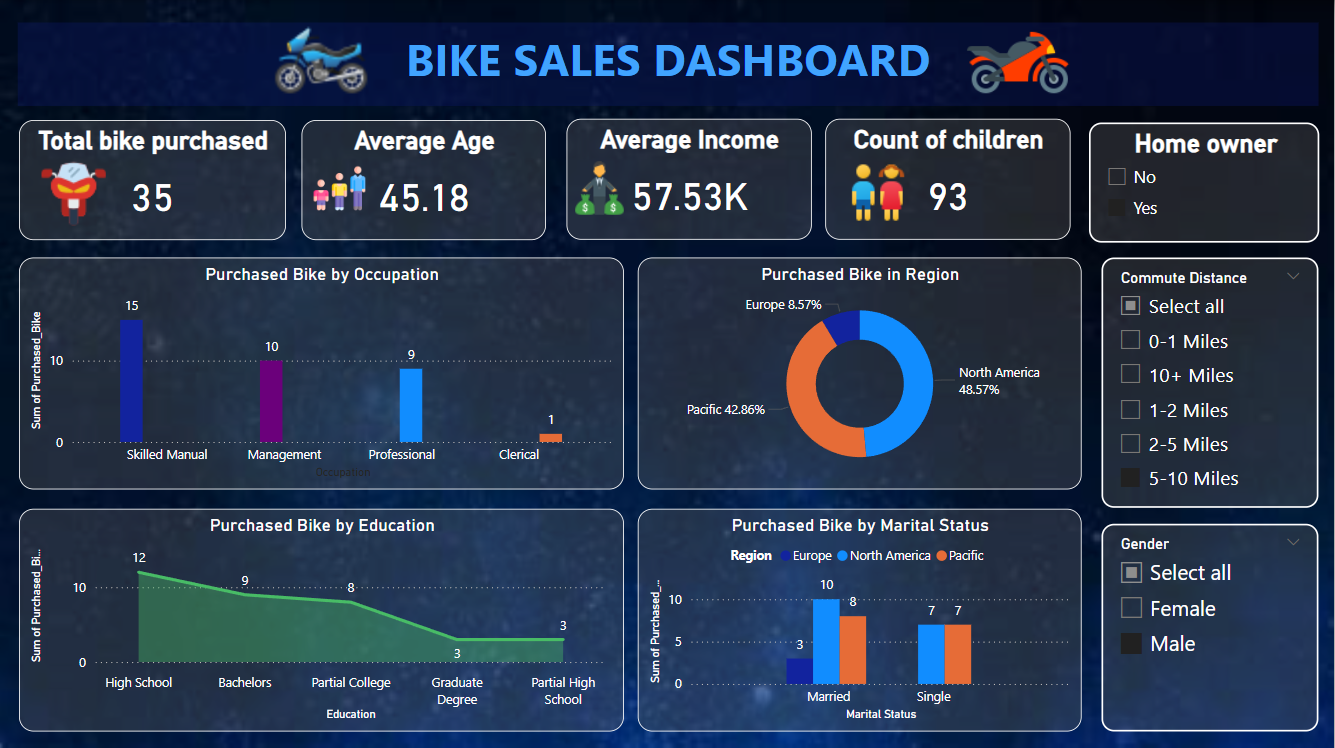

This screenshot's page, from the dashboard's own definition file:
{"tool":"powerbi","page":{"name":"Page 1","canvas":[1280,720],"ordinal":0},"visuals":[{"type":"donutChart","title":"Purchased Bike in Region","fields":{"Category":["Bike_sales_data.Region"],"Y":["Sum(Bike_sales_data.Purchased_Bike)"]},"box":[612.2,247.4,425.4,222.5],"z":0},{"type":"slicer","title":"Home owner","fields":{"Values":["Bike_sales_data.Home Owner"]},"box":[1044.7,117.5,221.2,115.4],"z":1000,"group":"g2"},{"type":"areaChart","title":"Purchased Bike by Education","fields":{"Category":["Bike_sales_data.Education"],"Y":["Sum(Bike_sales_data.Purchased_Bike)"]},"box":[19.6,487.7,580.2,213.6],"z":1000},{"type":"slicer","fields":{"Values":["Bike_sales_data.Gender"]},"box":[1057.2,501.9,208.2,199.3],"z":2000},{"type":"clusteredColumnChart","title":"Purchased Bike by Occupation","fields":{"Category":["Bike_sales_data.Occupation"],"Series":["Bike_sales_data.Occupation"],"Y":["Sum(Bike_sales_data.Purchased_Bike)"]},"box":[19.6,247.4,580.2,222.5],"z":3000},{"type":"clusteredColumnChart","title":"Purchased Bike by Marital Status","fields":{"Y":["Sum(Bike_sales_data.Purchased_Bike)"],"Category":["Bike_sales_data.Marital Status"],"Series":["Bike_sales_data.Region"]},"box":[612.2,487.7,425.4,213.6],"z":4000},{"type":"slicer","fields":{"Values":["Bike_sales_data.Commute Distance"]},"box":[1057.2,247.4,208.2,240.3],"z":5000},{"type":"textbox","box":[18.5,21.3,1247.3,79.6],"z":6000},{"type":"card","title":"Total bike purchased","fields":{"Values":["Sum(Bike_sales_data.Purchased_Bike)"]},"box":[19.4,114.6,255.8,115.4],"z":6000,"group":"g4"},{"type":"card","title":"Average Income","fields":{"Values":["Avg(Bike_sales_data.Income)"]},"box":[543.5,113.9,234.9,115.7],"z":7000,"group":"g5"},{"type":"group","id":"g1","title":"Group 2","box":[290.6,114.9,234.6,115.4],"z":8000},{"type":"card","title":"Average Age","fields":{"Values":["Avg(Bike_sales_data.Age)"]},"box":[290.6,114.9,234.6,115.4],"z":8000,"group":"g1"},{"type":"card","title":"Count of  children","fields":{"Values":["CountNonNull(Bike_sales_data.Children)"]},"box":[792.9,113.9,234.9,115.7],"z":9000,"group":"g3"},{"type":"group","id":"g2","title":"Group 3","box":[1044.7,117.5,220.7,113.9],"z":9000},{"type":"group","id":"g3","title":"Group 5","box":[787.6,113.9,240.3,115.7],"z":11000},{"type":"image","box":[918.4,1.8,119.2,117.5],"z":11001},{"type":"image","box":[35.6,147.7,71.2,74.8],"z":11002,"group":"g4"},{"type":"group","id":"g4","title":"Group 1","box":[19.4,114.6,255.8,115.4],"z":11003},{"type":"image","box":[296.3,150.6,61.5,59.6],"z":13000,"group":"g1"},{"type":"image","box":[530.4,147.7,89,65.9],"z":14004,"group":"g5"},{"type":"group","id":"g5","title":"Group 4","box":[530.4,113.9,248,115.7],"z":14005},{"type":"image","box":[787.6,147.5,110.3,74.8],"z":14005,"group":"g3"},{"type":"image","box":[242.1,0,133.5,101.4],"z":14006}]}

Visuals, with their boxes in screenshot pixels (x1, y1, x2, y2), scaled from the page's 1280x720 canvas onto the 1335x748 screenshot:
"Purchased Bike in Region" donutChart: bbox=[639, 257, 1082, 488]
"Home owner" slicer: bbox=[1090, 122, 1320, 242]
"Purchased Bike by Education" areaChart: bbox=[20, 507, 626, 729]
slicer - Bike_sales_data.Gender: bbox=[1103, 521, 1320, 728]
"Purchased Bike by Occupation" clusteredColumnChart: bbox=[20, 257, 626, 488]
"Purchased Bike by Marital Status" clusteredColumnChart: bbox=[639, 507, 1082, 729]
slicer - Bike_sales_data.Commute Distance: bbox=[1103, 257, 1320, 507]
textbox: bbox=[19, 22, 1320, 105]
"Total bike purchased" card: bbox=[20, 119, 287, 239]
"Average Income" card: bbox=[567, 118, 812, 239]
"Group 2" group: bbox=[303, 119, 548, 239]
"Average Age" card: bbox=[303, 119, 548, 239]
"Count of  children" card: bbox=[827, 118, 1072, 239]
"Group 3" group: bbox=[1090, 122, 1320, 240]
"Group 5" group: bbox=[821, 118, 1072, 239]
image: bbox=[958, 2, 1082, 124]
image: bbox=[37, 153, 111, 231]
"Group 1" group: bbox=[20, 119, 287, 239]
image: bbox=[309, 156, 373, 218]
image: bbox=[553, 153, 646, 222]
"Group 4" group: bbox=[553, 118, 812, 239]
image: bbox=[821, 153, 936, 231]
image: bbox=[253, 0, 392, 105]
